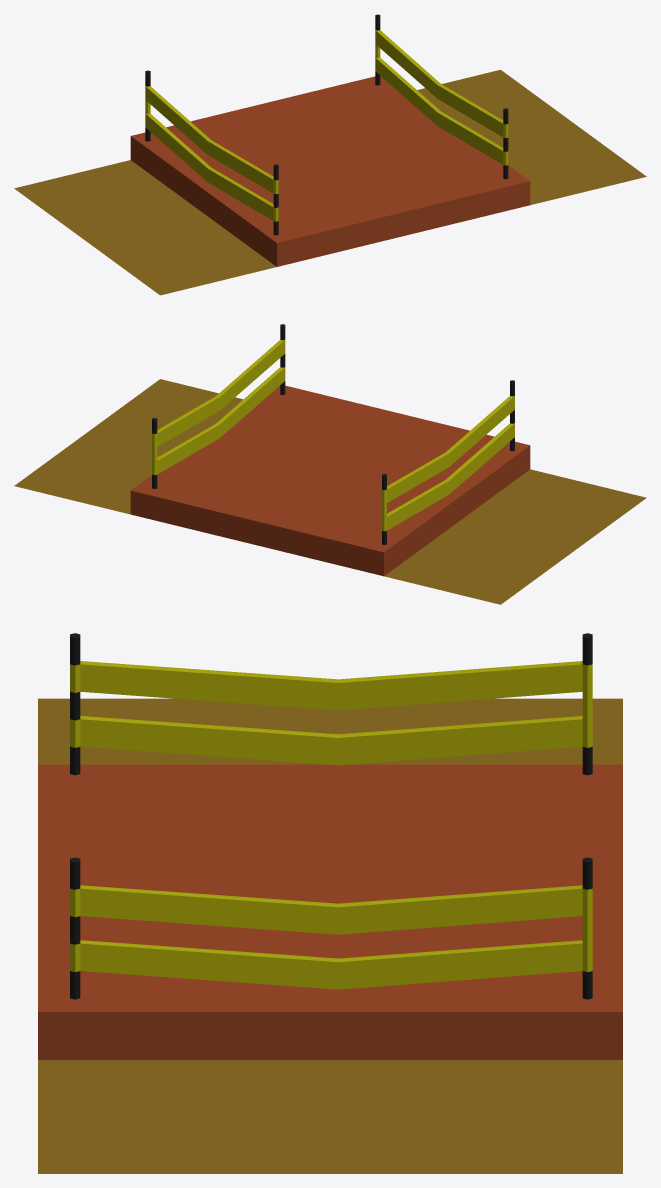
3 views of the same model, one above another, from view 1: azimuth 30°, elevation 25°; view 2: azimuth 150°, elevation 25°; view 3: azimuth 270°, elevation 25° (orthographic). The views are drawn at different scales.
Visible parts, largest first — view 1: Box002; view 2: Box002; view 3: Box002.
Part boxes in pixels (box(x1,y1,x2,y2)): Box002: box(14, 14, 646, 295); Box002: box(14, 324, 646, 604); Box002: box(38, 633, 622, 1173).
Size of the model in its own units: 1769 by 322 by 921.
